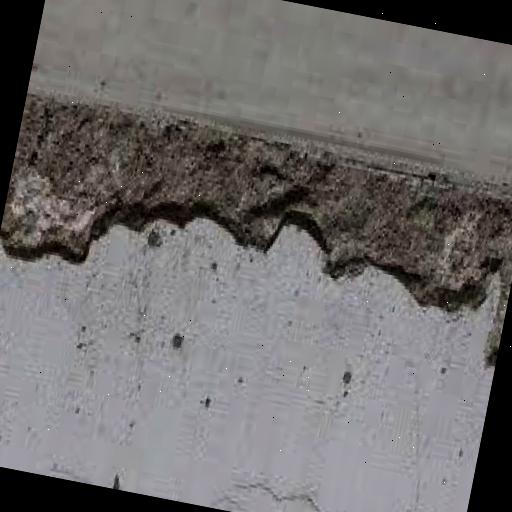spalling: (0, 98, 512, 366)
